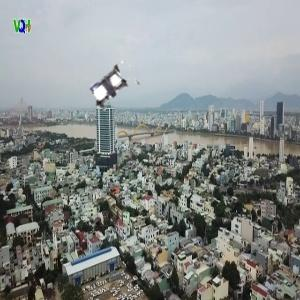drone: (78, 58, 144, 124)
